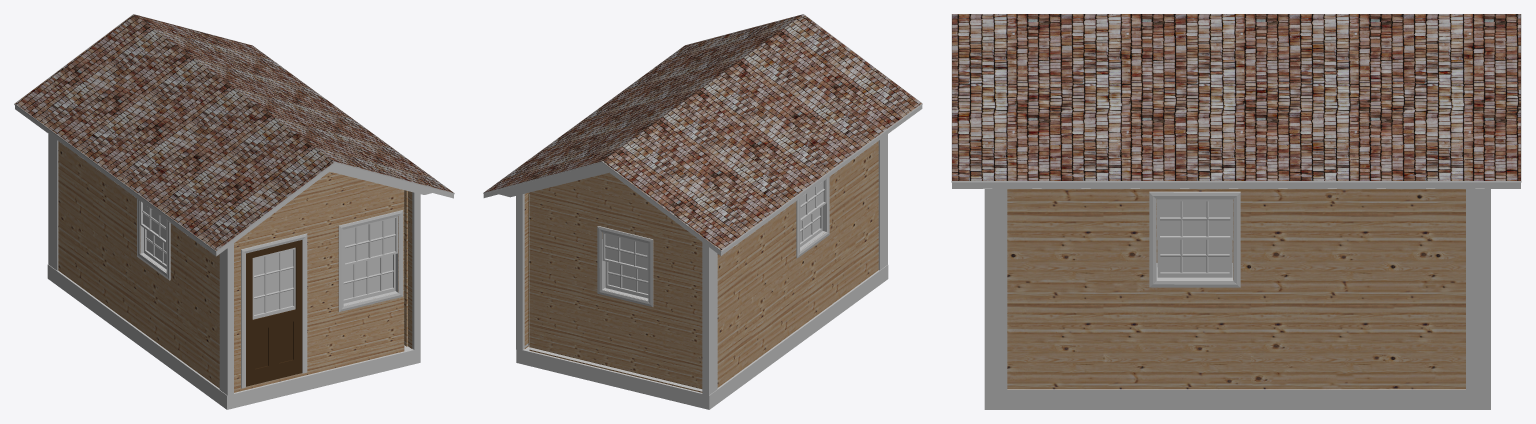
Rendered from CabinRustic.obj.
3 views of the same model, side by side, from view 1: azimuth 30°, elevation 25°; view 2: azimuth 150°, elevation 25°; view 3: azimuth 270°, elevation 25° (orthographic). The views are drawn at different scales.
Visible parts, largest first — view 1: RoofShingles_Plane.015, WallLeft_WallBack.004, WallFront_WallFront.001, Door_Plane.022, WindowFront_Plane.010, MoldingSide_Plane.020, Base_Plane.023, Floor_Plane.001, WindowLefta_Cube.012, RoofPlywood_Plane.016, WallRight_WallBack.001, RoofBeams_Plane.019; view 2: RoofShingles_Plane.015, WallBack_WallBack.005, WallLeft_WallBack.004, MoldingSide_Plane.020, Base_Plane.023, WindowBack_Plane.013, Floor_Plane.001, WindowLefta_Cube.012, RoofPlywood_Plane.016, RoofBeams_Plane.019; view 3: RoofShingles_Plane.015, WallRight_WallBack.001, MoldingSide_Plane.020, WindowRight_Cube.010, Base_Plane.023, Floor_Plane.001, RoofPlywood_Plane.016.
Part boxes in pixels (x1,y1,x2,y2): RoofShingles_Plane.015: (14,14,454,253); WallLeft_WallBack.004: (58,141,219,388); WallFront_WallFront.001: (234,172,412,392); Door_Plane.022: (241,233,307,388); WindowFront_Plane.010: (338,210,403,312); MoldingSide_Plane.020: (48,134,420,396); Base_Plane.023: (47,268,420,409); Floor_Plane.001: (47,264,420,399); WindowLefta_Cube.012: (137,199,170,280); RoofPlywood_Plane.016: (15,106,453,256); WallRight_WallBack.001: (404,190,407,346); RoofBeams_Plane.019: (187,167,431,235); RoofShingles_Plane.015: (483,14,922,253); WallBack_WallBack.005: (524,172,702,392); WallLeft_WallBack.004: (717,141,878,387); MoldingSide_Plane.020: (516,134,887,396); Base_Plane.023: (516,269,888,409); WindowBack_Plane.013: (597,226,653,307); Floor_Plane.001: (516,265,888,399); WindowLefta_Cube.012: (796,177,829,258); RoofPlywood_Plane.016: (483,106,922,255); RoofBeams_Plane.019: (499,130,892,197); RoofShingles_Plane.015: (951,14,1521,184); WallRight_WallBack.001: (1007,189,1465,389); MoldingSide_Plane.020: (984,189,1490,391); WindowRight_Cube.010: (1149,191,1240,287); Base_Plane.023: (984,395,1490,409); Floor_Plane.001: (984,263,1490,395); RoofPlywood_Plane.016: (952,184,1520,188).
Bounding box in the file's own units: 9.64 × 9 × 14.14.
10 materials, 5 textured.
